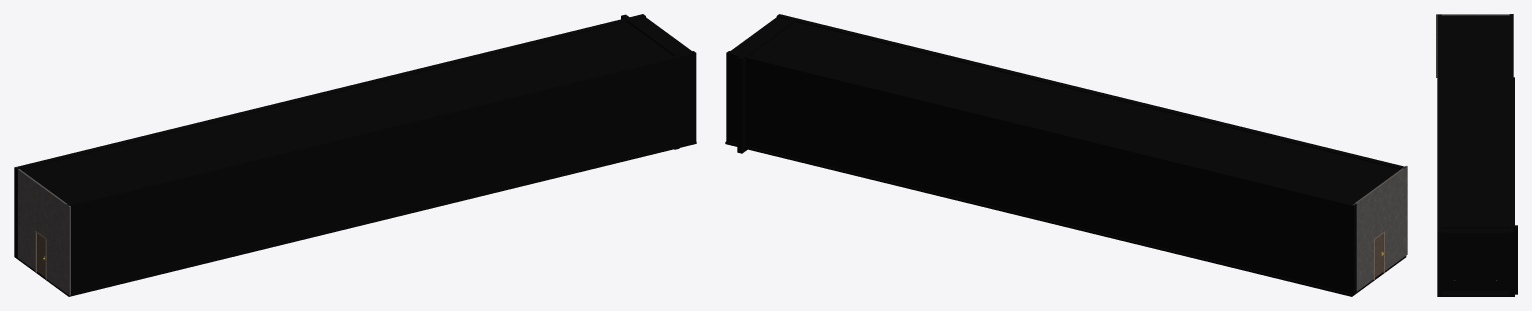
File: pasillo.fbx
3 renders of one model, left to right at view 1: azimuth 30°, elevation 25°; view 2: azimuth 150°, elevation 25°; view 3: azimuth 270°, elevation 25°, orthographic. The views are drawn at different scales.
Visible parts, largest first — view 1: pared, techo, pared 4, pared 2, suelo; view 2: pared 2, techo, pared 4, pared, suelo, pared 3; view 3: techo, pared 3, pared, pared 2, suelo, pared 4.
Boxes of the visible parts, <box> form: pared: <box>66,51,696,293</box>; techo: <box>21,17,691,203</box>; pared 4: <box>16,167,70,295</box>; pared 2: <box>14,14,645,257</box>; suelo: <box>14,141,696,296</box>; pared 2: <box>726,51,1356,294</box>; techo: <box>730,17,1400,203</box>; pared 4: <box>1353,165,1407,291</box>; pared: <box>776,14,1405,169</box>; suelo: <box>725,141,1406,296</box>; pared 3: <box>737,18,795,153</box>; techo: <box>1439,15,1509,234</box>; pared 3: <box>1441,225,1517,294</box>; pared: <box>1437,14,1441,295</box>; pared 2: <box>1509,14,1513,295</box>; suelo: <box>1437,77,1514,296</box>; pared 4: <box>1436,14,1511,77</box>.
Bounding box in the file's own units: 39.95 × 5.75 × 6.32.
